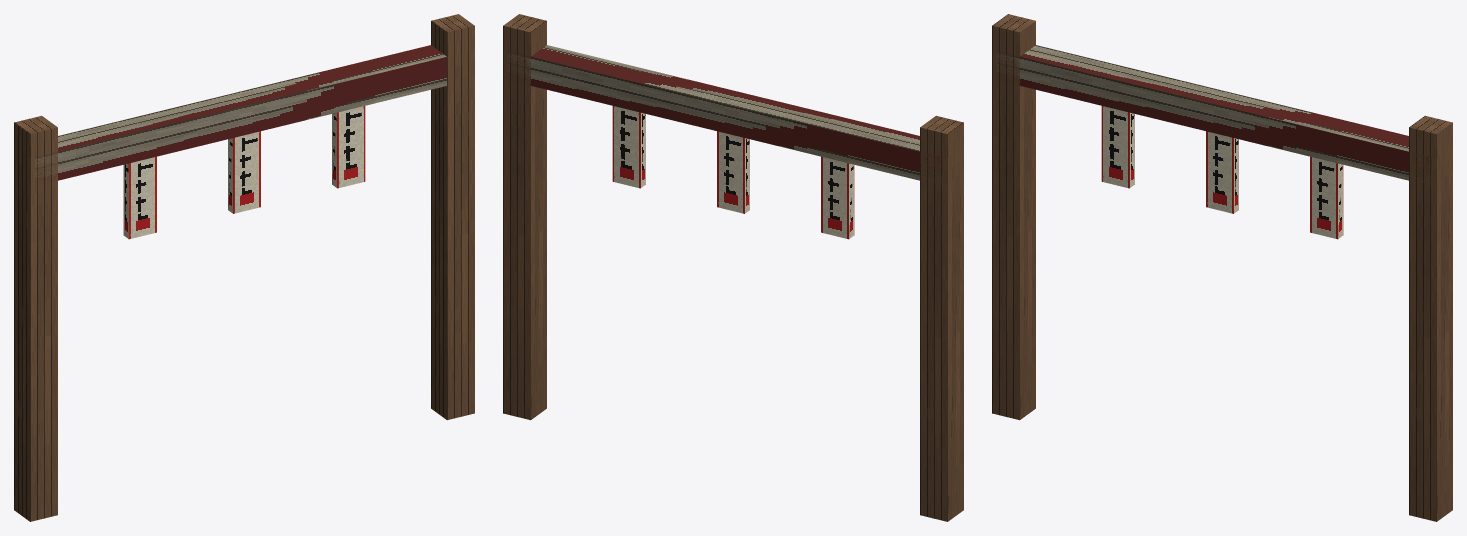
File: spirit_ward.obj
3 views of the same model, side by side, from view 1: azimuth 30°, elevation 25°; view 2: azimuth 150°, elevation 25°; view 3: azimuth 330°, elevation 25° (orthographic).
Parts seen in each view (by area): view 1: part2, part0, part1, part5, part3, part4; view 2: part2, part0, part1, part5, part3, part4; view 3: part2, part1, part0, part3, part5, part4.
Boxes of the visible parts, x1,y1,x2,y2 form: part2: (35,45,446,183); part0: (14,115,57,521); part1: (431,14,474,420); part5: (332,106,365,188); part3: (123,156,156,239); part4: (228,131,260,213); part2: (507,45,942,182); part0: (920,115,963,521); part1: (503,14,546,420); part5: (612,106,645,188); part3: (821,156,854,239); part4: (717,131,749,213); part2: (996,45,1431,182); part1: (1409,115,1452,521); part0: (992,14,1035,420); part3: (1101,106,1134,188); part5: (1310,156,1343,239); part4: (1206,131,1238,213).
Size of the model in its own units: 1.92 by 1.6 by 0.12.
6 materials, 6 textured.
